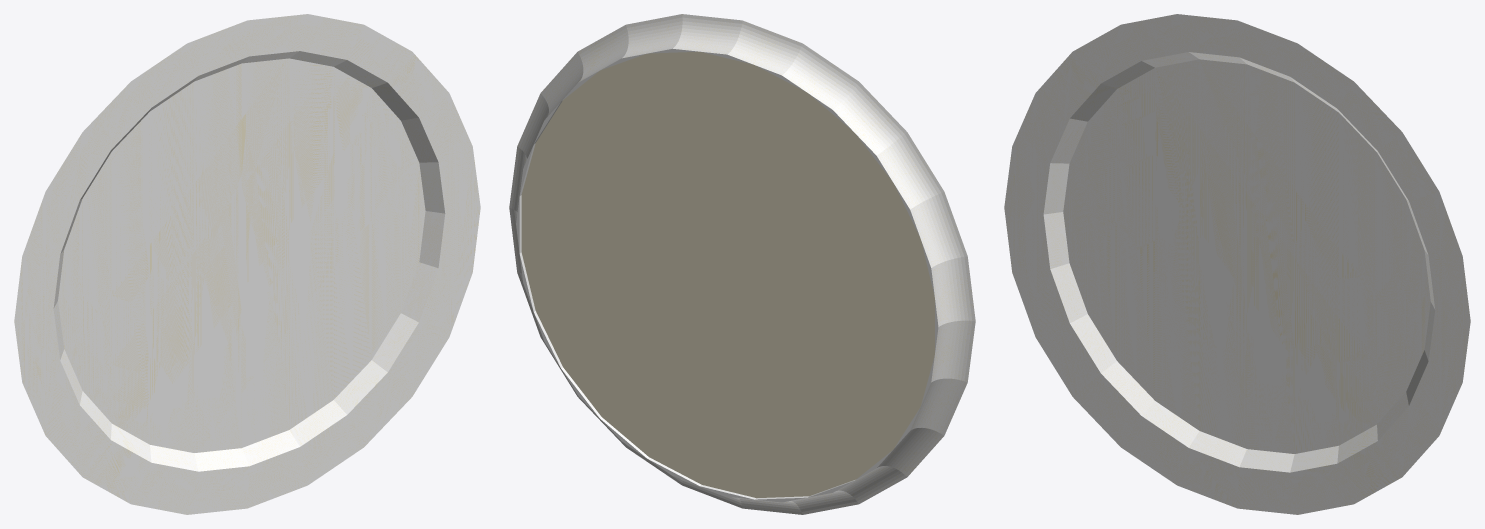
The picture shows the model from 3 angles, left to right: view 1: azimuth 30°, elevation 25°; view 2: azimuth 150°, elevation 25°; view 3: azimuth 330°, elevation 25°; orthographic projection.
Parts seen in each view (by area): view 1: dinner plate template; view 2: dinner plate template; view 3: dinner plate template.
Part boxes in pixels (<box>): dinner plate template: <box>14,14,480,514</box>; dinner plate template: <box>509,14,975,514</box>; dinner plate template: <box>1004,14,1470,514</box>.
Size of the model in its own units: 13.25 by 13.25 by 0.75.
